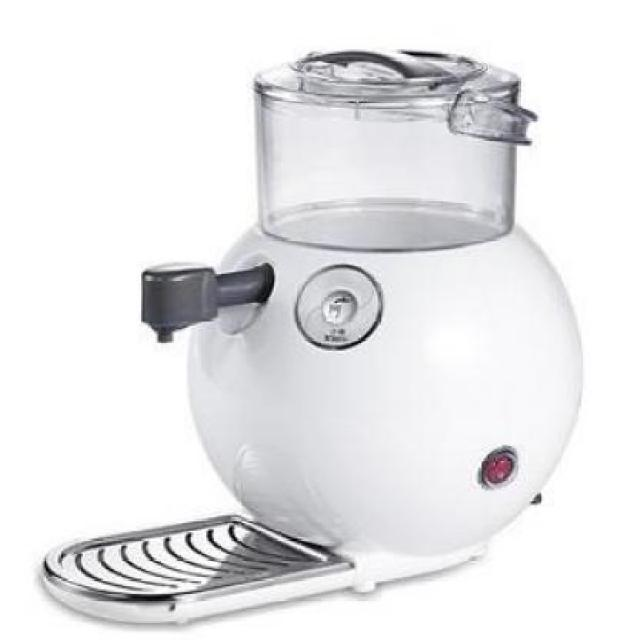cooler: (40, 40, 588, 632)
